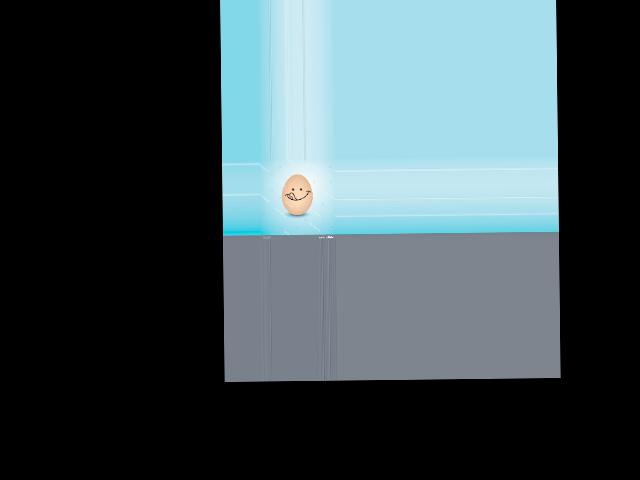egg: (281, 174, 312, 215)
